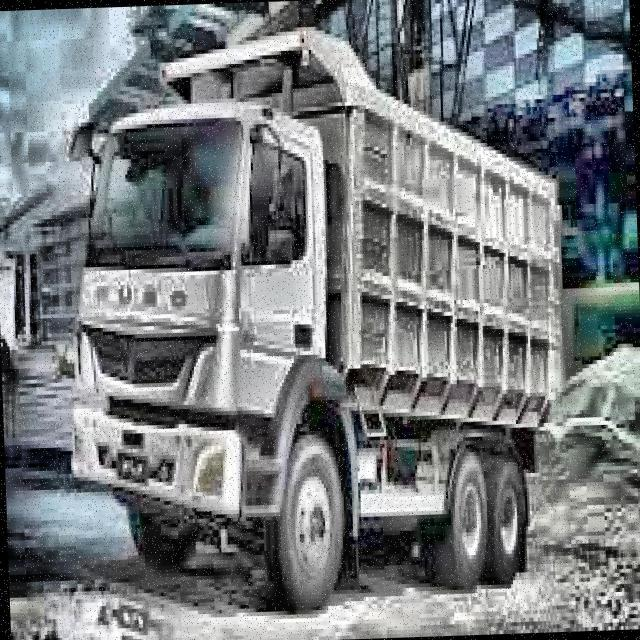dump_truck: (53, 18, 571, 614)
